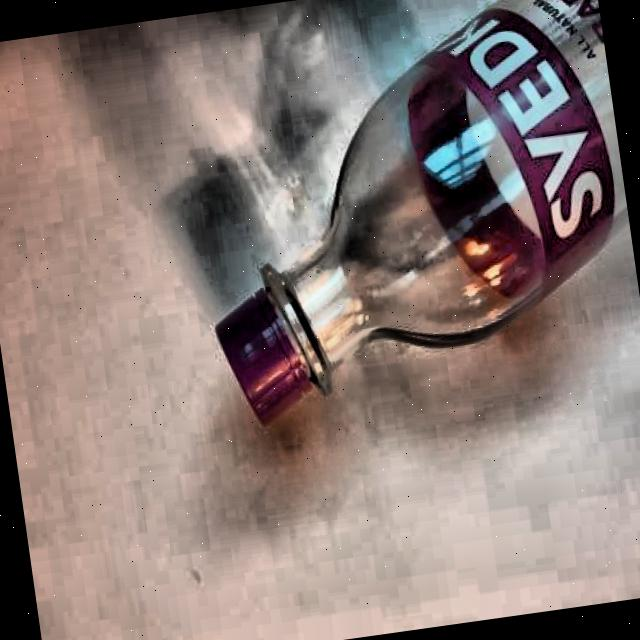glass: (181, 0, 640, 412)
